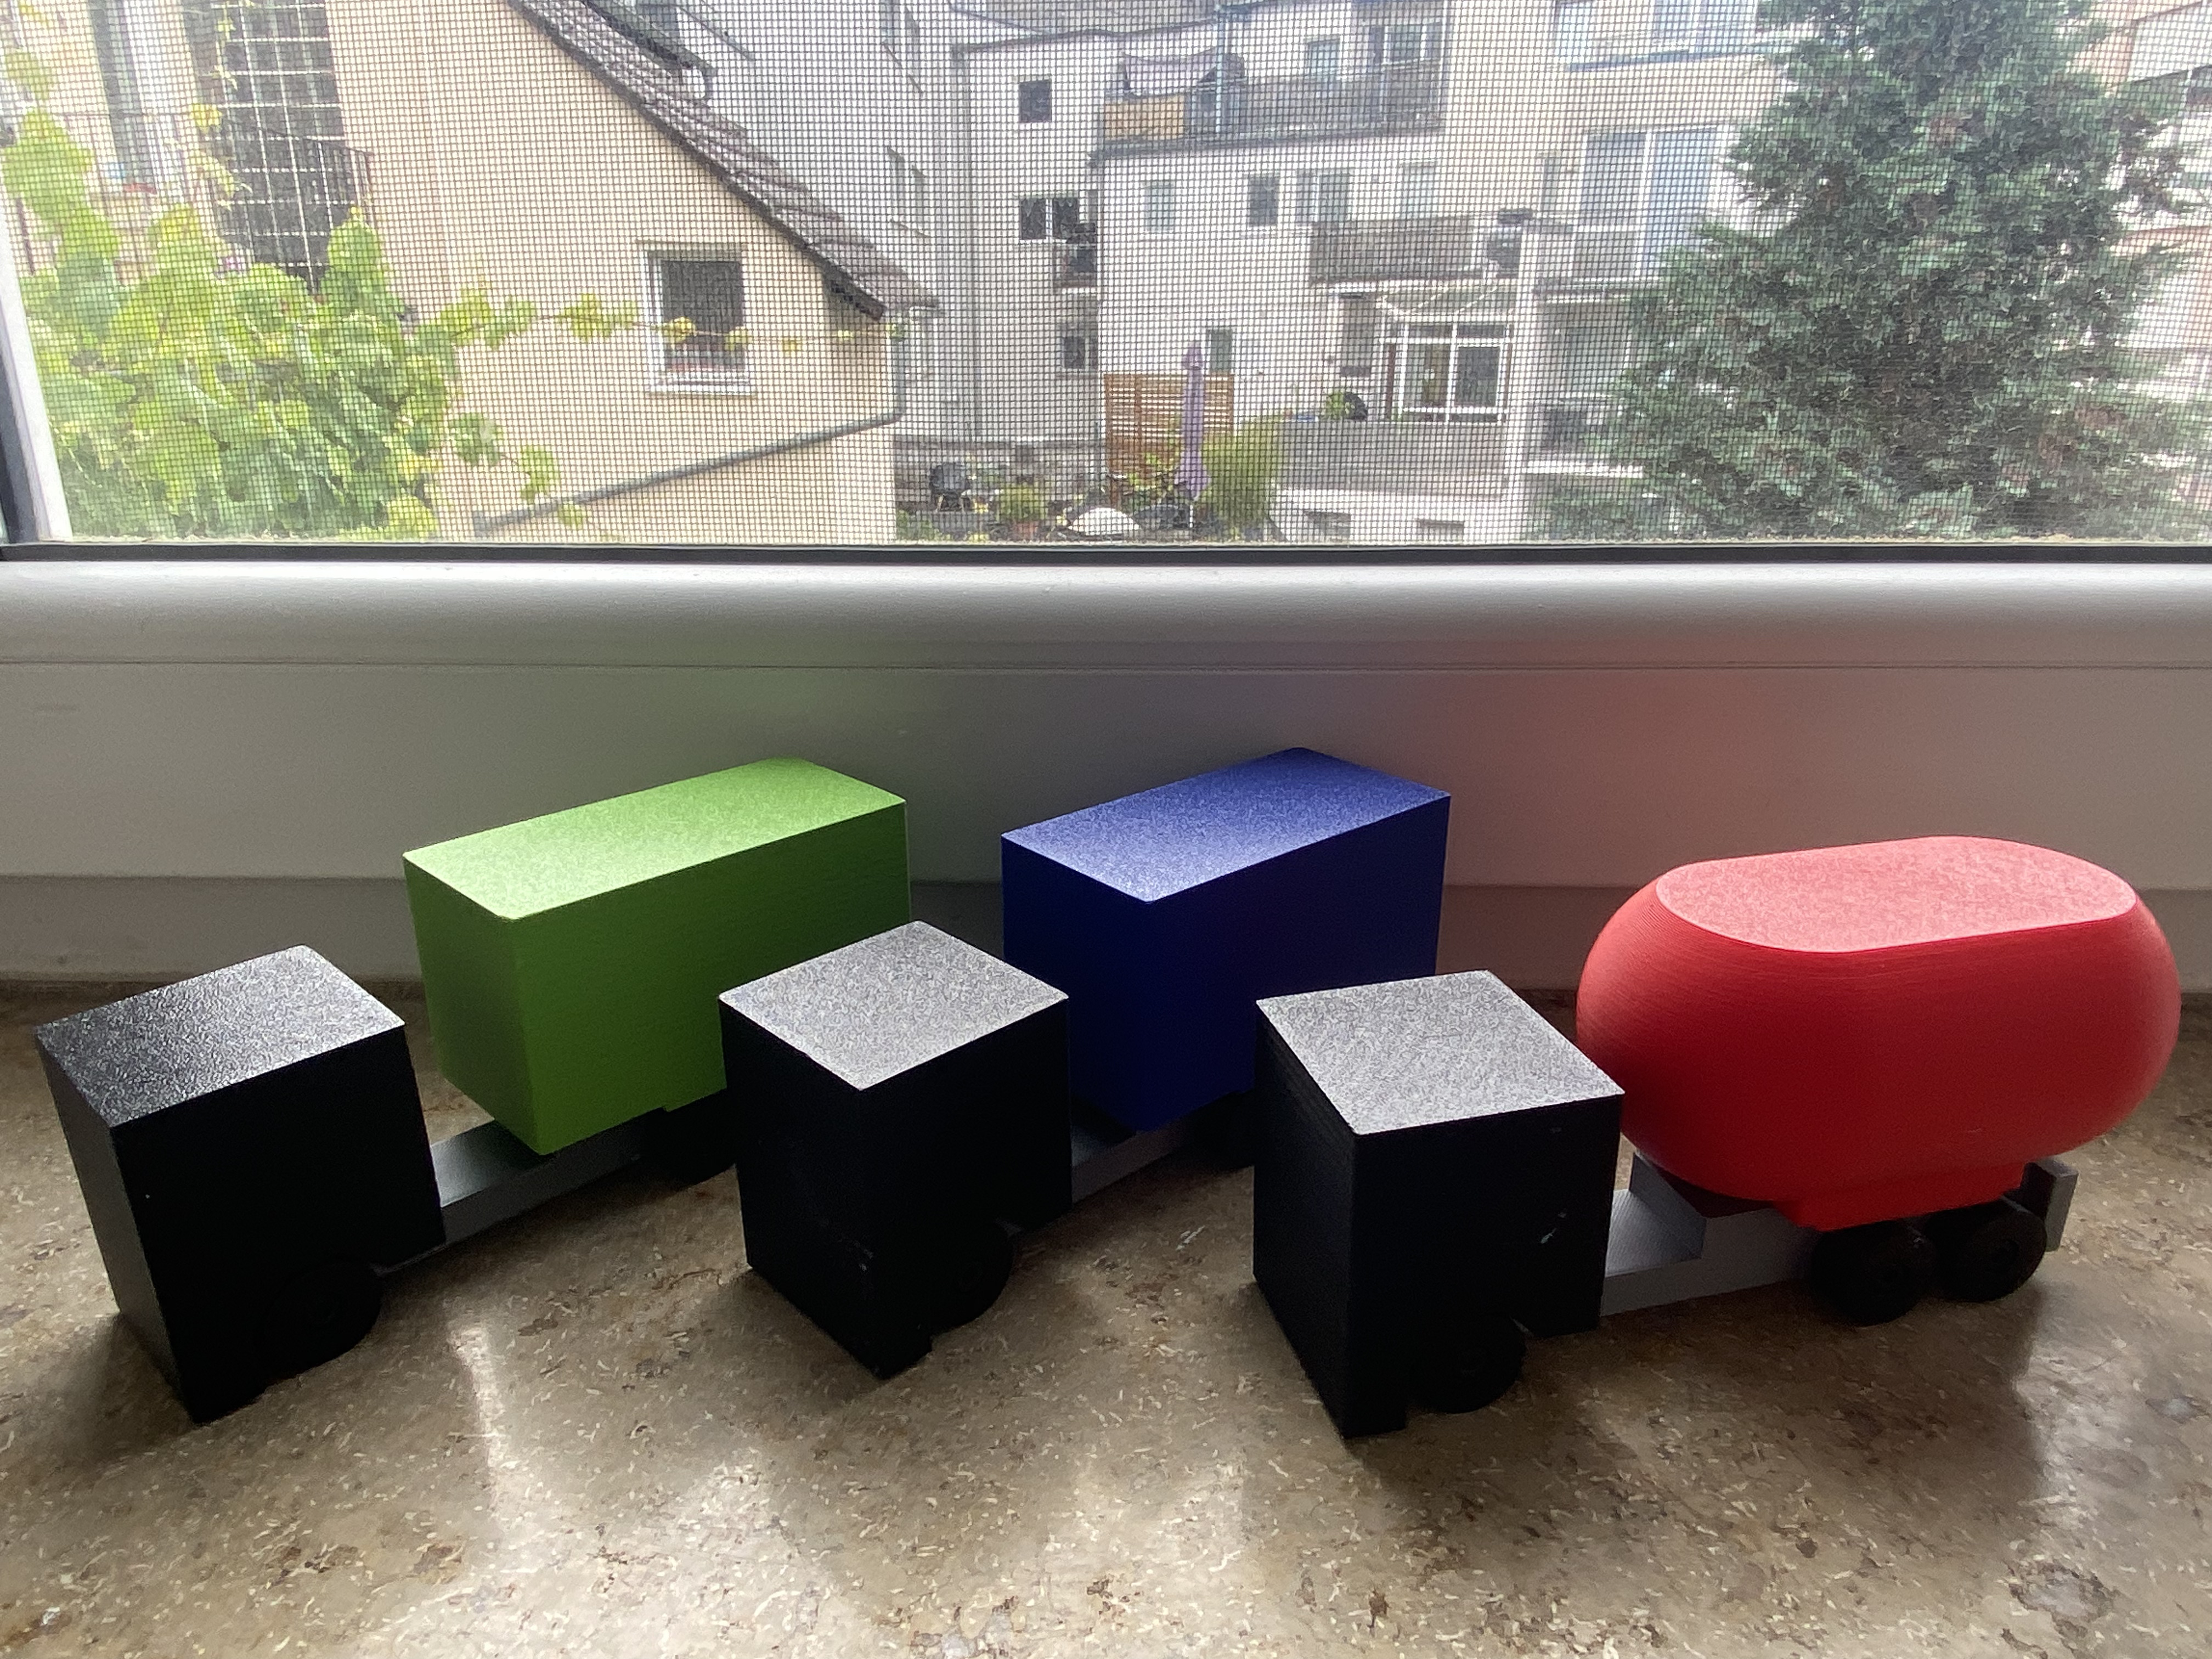blue_truck: (606, 723, 1616, 1202)
green_truck: (3, 789, 1029, 1227)
red_truck: (1238, 807, 2179, 1455)
